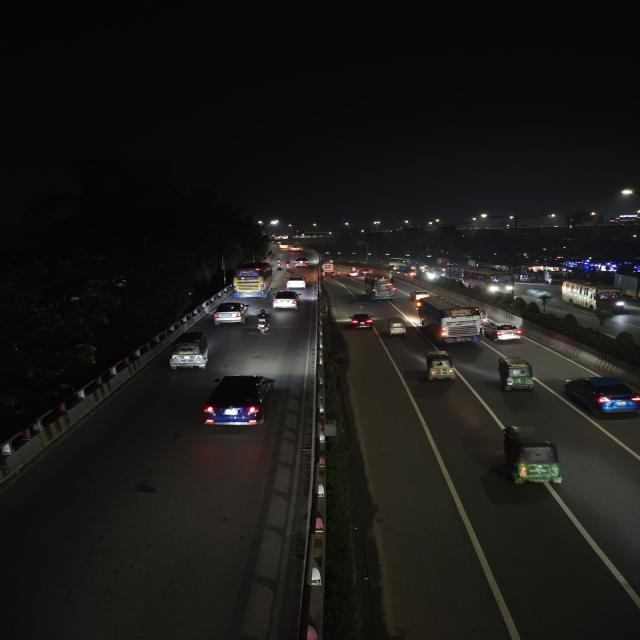bus: (424, 298, 480, 342), (562, 280, 626, 316), (232, 262, 272, 300), (464, 269, 514, 297), (365, 275, 394, 299)
car: (198, 371, 274, 427), (566, 377, 637, 419), (212, 300, 248, 326), (487, 323, 524, 342), (272, 289, 300, 310), (348, 310, 374, 330), (285, 274, 309, 290), (410, 288, 427, 302), (294, 255, 310, 267), (289, 245, 302, 252), (275, 242, 288, 249), (345, 272, 360, 278), (360, 270, 372, 276)
cng: (494, 419, 572, 492), (495, 350, 540, 396), (171, 332, 211, 372), (422, 349, 456, 381), (385, 315, 409, 340)
motorcycle: (254, 308, 270, 333), (274, 258, 284, 270), (283, 259, 293, 271), (481, 309, 489, 324), (336, 267, 342, 277), (330, 269, 336, 278)
